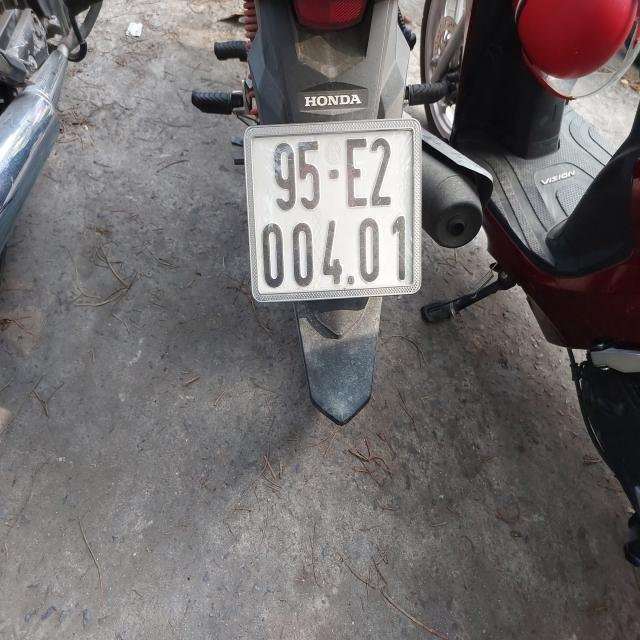0: (261, 222, 285, 288), (292, 222, 314, 288), (358, 217, 380, 283)
1: (392, 212, 406, 282)
2: (371, 138, 393, 207)
4: (323, 219, 342, 286)
5: (298, 140, 321, 210)
9: (273, 142, 298, 211)
E: (344, 138, 370, 208)
